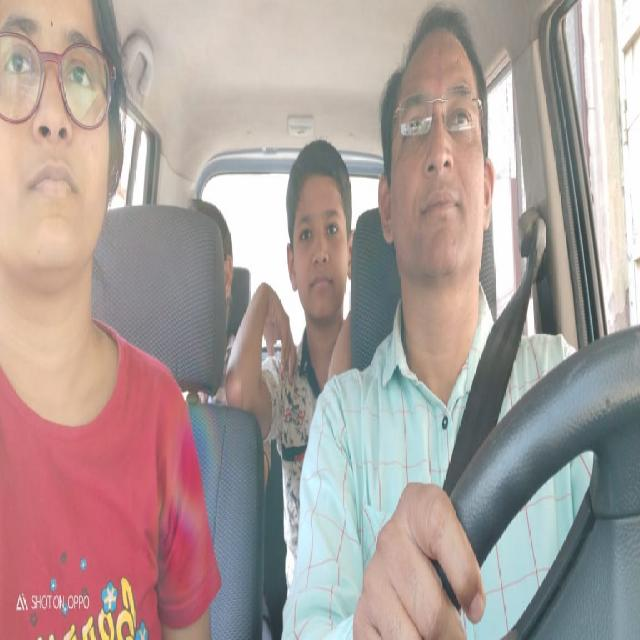person: (375, 9, 495, 338), (1, 0, 126, 289), (280, 133, 356, 364)
